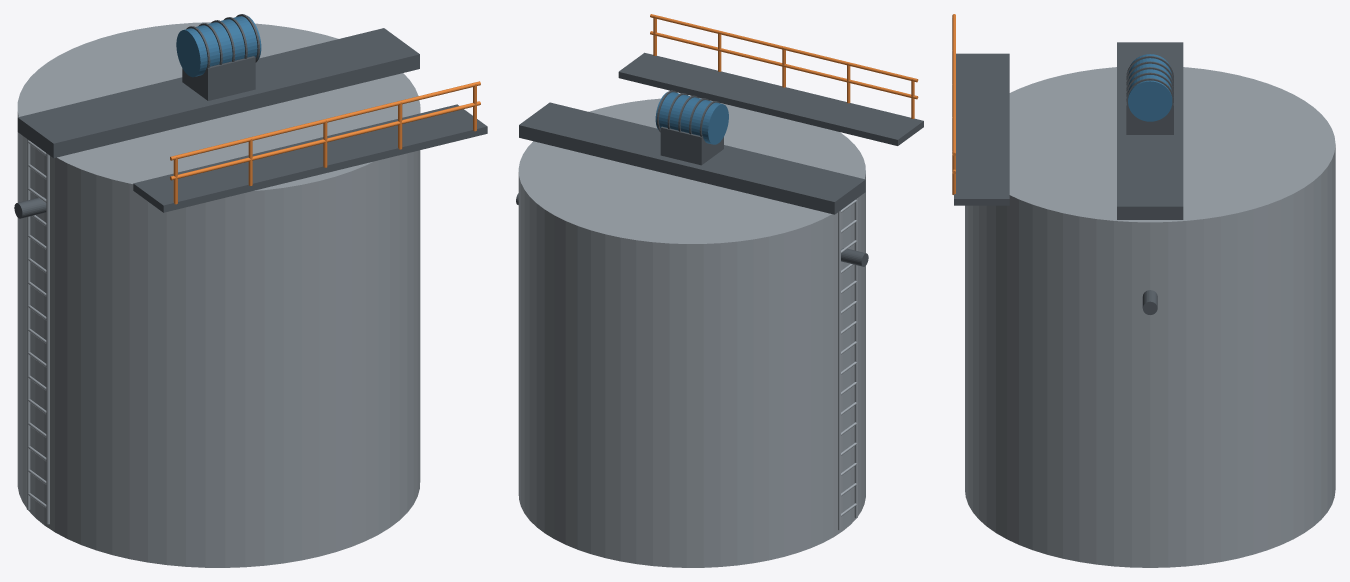
The model's file is LEACH-REACTOR.glb.
3 views of the same model, side by side, from view 1: azimuth 30°, elevation 25°; view 2: azimuth 150°, elevation 25°; view 3: azimuth 270°, elevation 25° (orthographic). The views are drawn at different scales.
Parts seen in each view (by area): view 1: LEACH-REACTOR_SHELL, LEACH-REACTOR_TOP_BRIDGE, LEACH-REACTOR_WALKWAY, LEACH-REACTOR_MOTOR, LEACH-REACTOR_GEARBOX, LEACH-REACTOR, LEACH-REACTOR_LADDER_SIDE_B, LEACH-REACTOR_RAIL_8.48, LEACH-REACTOR_LADDER_SIDE_A, LEACH-REACTOR_RAIL_8.10; view 2: LEACH-REACTOR_SHELL, LEACH-REACTOR_TOP_BRIDGE, LEACH-REACTOR_WALKWAY, LEACH-REACTOR_MOTOR, LEACH-REACTOR_GEARBOX, LEACH-REACTOR, LEACH-REACTOR_RAIL_8.48, LEACH-REACTOR_LADDER_SIDE_A, LEACH-REACTOR_RAIL_8.10, LEACH-REACTOR_LADDER_SIDE_B; view 3: LEACH-REACTOR_SHELL, LEACH-REACTOR_TOP_BRIDGE, LEACH-REACTOR_WALKWAY, LEACH-REACTOR_MOTOR, LEACH-REACTOR, LEACH-REACTOR_GEARBOX, LEACH-REACTOR_RAIL_8.48.
Boxes of the visible parts, x1,y1,x2,y2 form: LEACH-REACTOR_SHELL: [17, 22, 420, 567]; LEACH-REACTOR_TOP_BRIDGE: [17, 28, 419, 158]; LEACH-REACTOR_WALKWAY: [133, 104, 487, 212]; LEACH-REACTOR_MOTOR: [176, 16, 261, 77]; LEACH-REACTOR_GEARBOX: [182, 56, 255, 100]; LEACH-REACTOR: [28, 14, 259, 507]; LEACH-REACTOR_LADDER_SIDE_B: [26, 139, 30, 509]; LEACH-REACTOR_RAIL_8.48: [170, 81, 480, 160]; LEACH-REACTOR_LADDER_SIDE_A: [46, 153, 49, 524]; LEACH-REACTOR_RAIL_8.10: [170, 101, 480, 180]; LEACH-REACTOR_SHELL: [518, 98, 865, 567]; LEACH-REACTOR_TOP_BRIDGE: [519, 102, 865, 214]; LEACH-REACTOR_WALKWAY: [618, 52, 923, 145]; LEACH-REACTOR_MOTOR: [655, 92, 728, 144]; LEACH-REACTOR_GEARBOX: [660, 126, 723, 165]; LEACH-REACTOR: [656, 90, 856, 516]; LEACH-REACTOR_RAIL_8.48: [650, 14, 918, 82]; LEACH-REACTOR_LADDER_SIDE_A: [854, 198, 857, 517]; LEACH-REACTOR_RAIL_8.10: [650, 31, 918, 99]; LEACH-REACTOR_LADDER_SIDE_B: [838, 210, 840, 530]; LEACH-REACTOR_SHELL: [965, 67, 1335, 567]; LEACH-REACTOR_TOP_BRIDGE: [1117, 42, 1183, 219]; LEACH-REACTOR_WALKWAY: [954, 53, 1009, 205]; LEACH-REACTOR_MOTOR: [1128, 54, 1172, 121]; LEACH-REACTOR: [1126, 56, 1173, 122]; LEACH-REACTOR_GEARBOX: [1126, 85, 1173, 134]; LEACH-REACTOR_RAIL_8.48: [952, 14, 955, 155].
Size of the model in its own units: 8.04 by 8.82 by 7.24.
